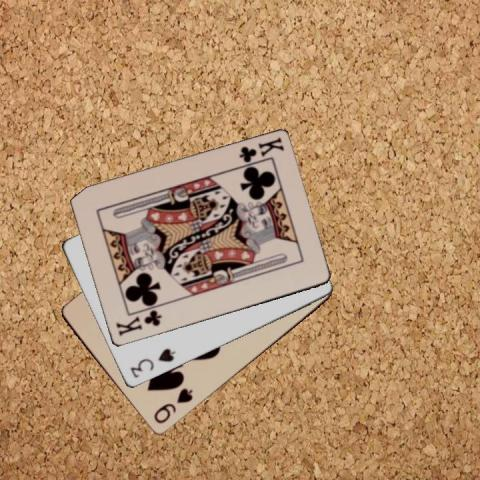3s: (127, 345, 177, 380)
9s: (150, 386, 194, 426)
Kc: (112, 308, 162, 338), (236, 134, 285, 164)
